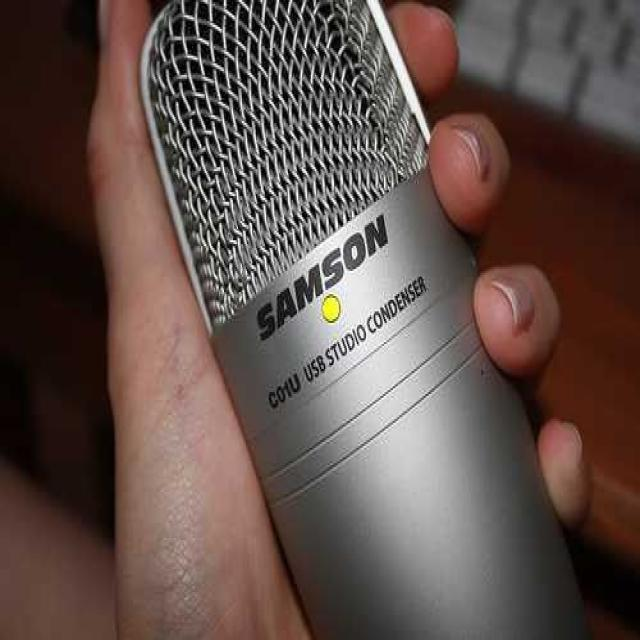microphone: (145, 1, 534, 621)
